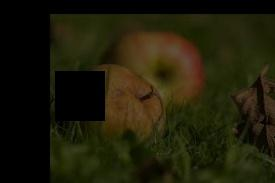rotten apple: (61, 65, 167, 134)
